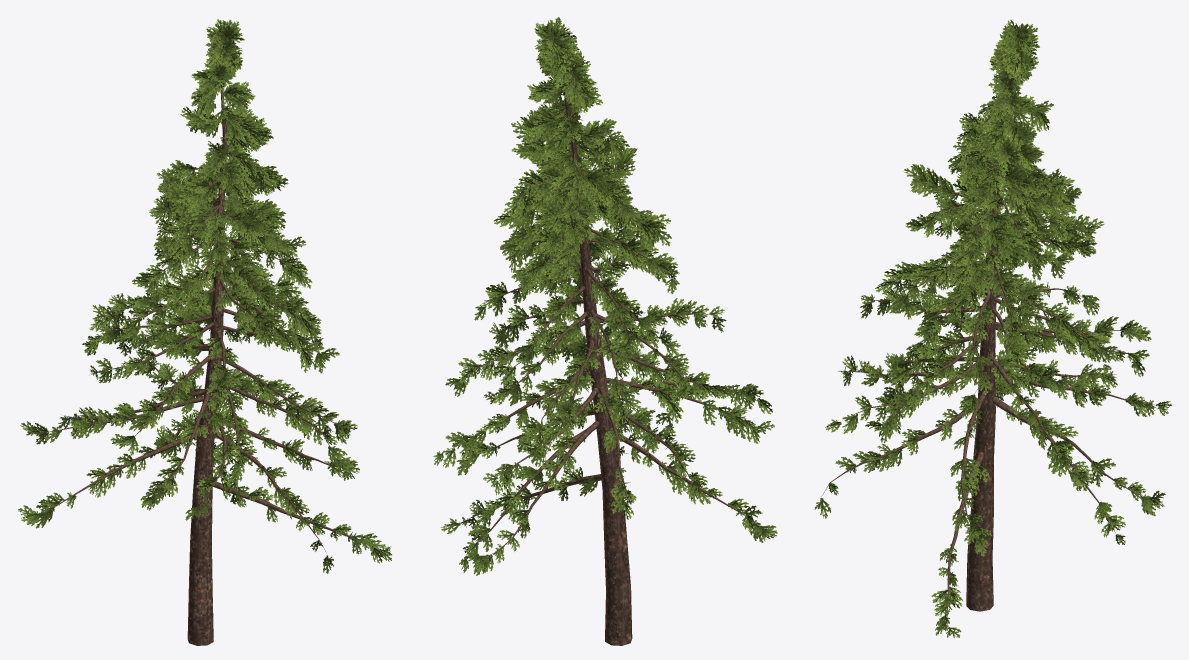
The model's file is pine-a.glb.
3 views of the same model, side by side, from view 1: azimuth 30°, elevation 25°; view 2: azimuth 150°, elevation 25°; view 3: azimuth 270°, elevation 25° (orthographic). The views are drawn at different scales.
Bounding box in the file's own units: 31.45 × 51.25 × 27.77.
2 materials, 2 textured.
